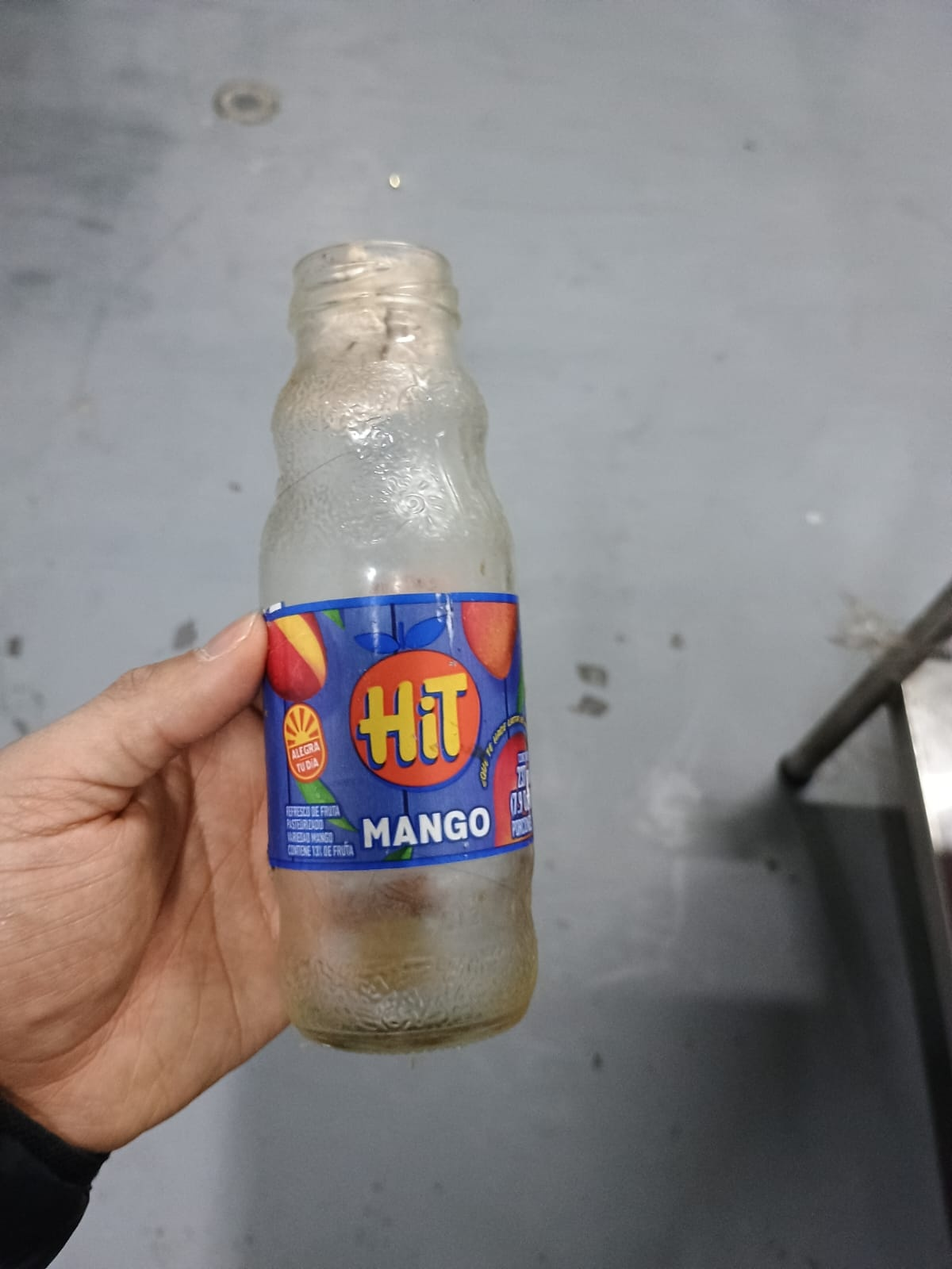Vidrio: (251, 242, 540, 1053)
